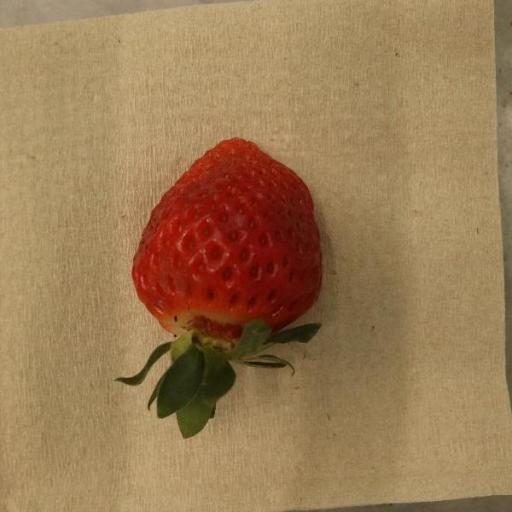Strawberry: (115, 138, 323, 441)
